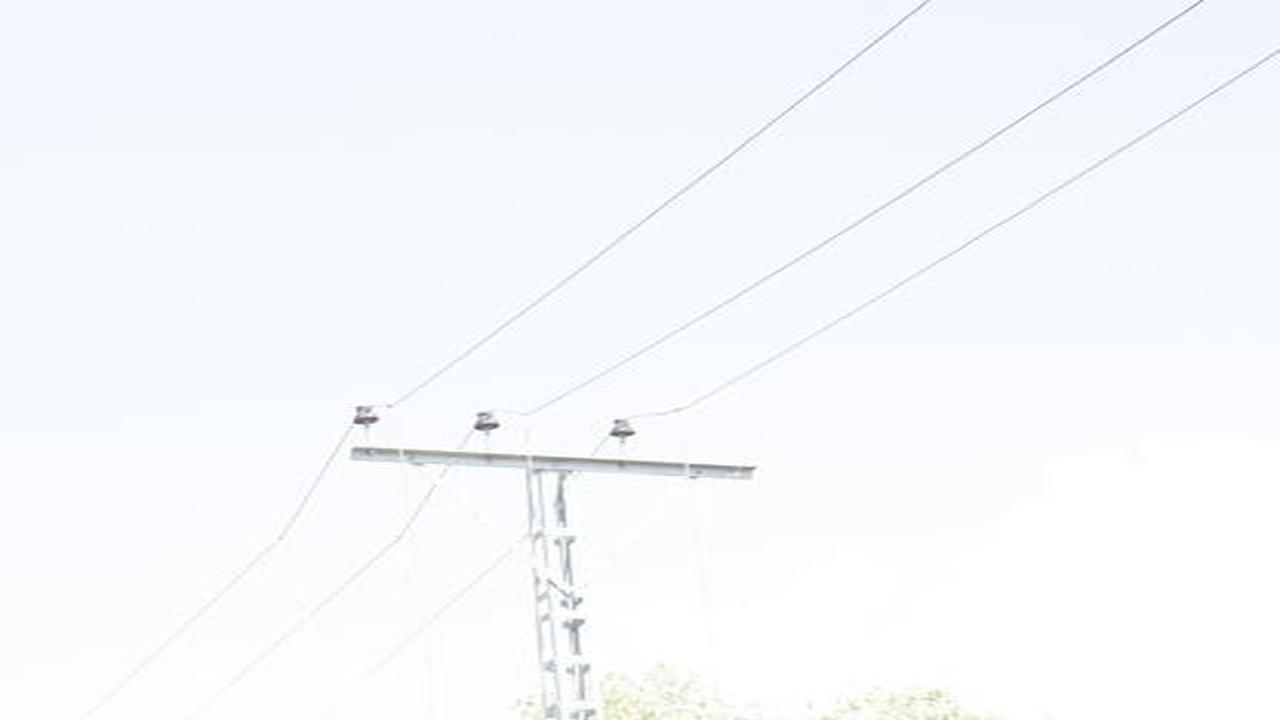insulator_pin: (606, 414, 640, 449), (472, 410, 510, 441), (350, 397, 380, 428)
